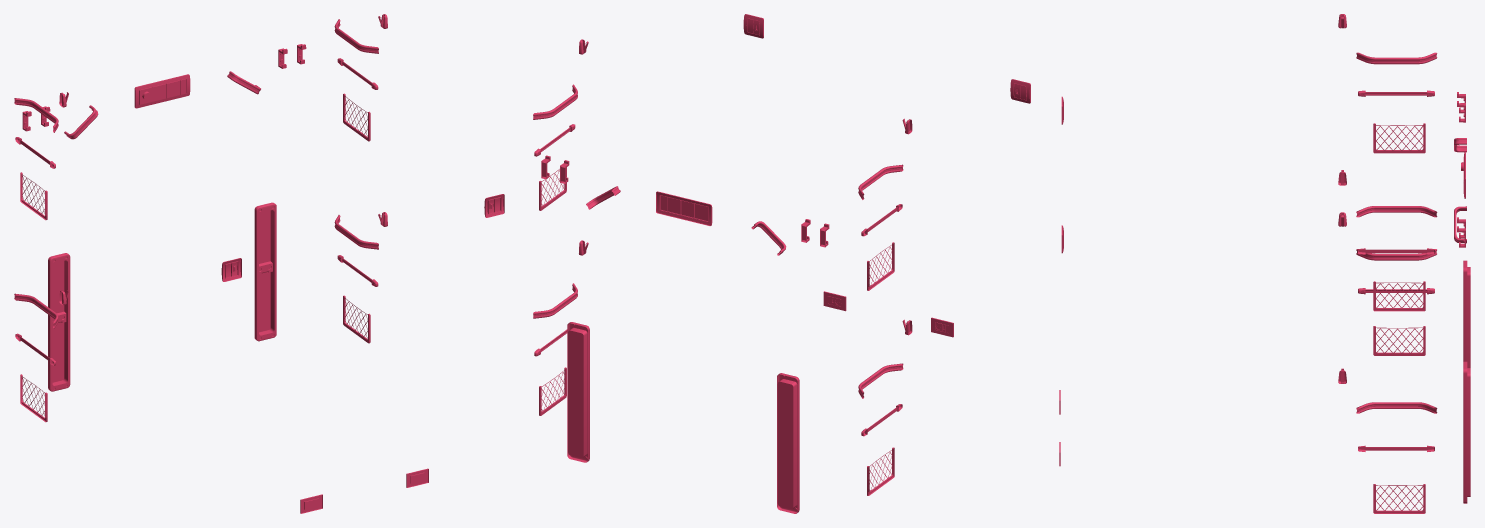
Rendered from Vagon_Stateroom_Equipment_01.fbx.
3 renders of one model, left to right at view 1: azimuth 30°, elevation 25°; view 2: azimuth 150°, elevation 25°; view 3: azimuth 270°, elevation 25°, orthographic.
Visible parts, largest first — view 1: Vagon_Stateroom_Equipment_01; view 2: Vagon_Stateroom_Equipment_01; view 3: Vagon_Stateroom_Equipment_01.
Part boxes in pixels (x1,y1,x2,y2): Vagon_Stateroom_Equipment_01: (14,14,504,513); Vagon_Stateroom_Equipment_01: (533,14,1030,513); Vagon_Stateroom_Equipment_01: (1059,14,1470,513).
Size of the model in its own units: 1.71 by 1.79 by 1.88.
